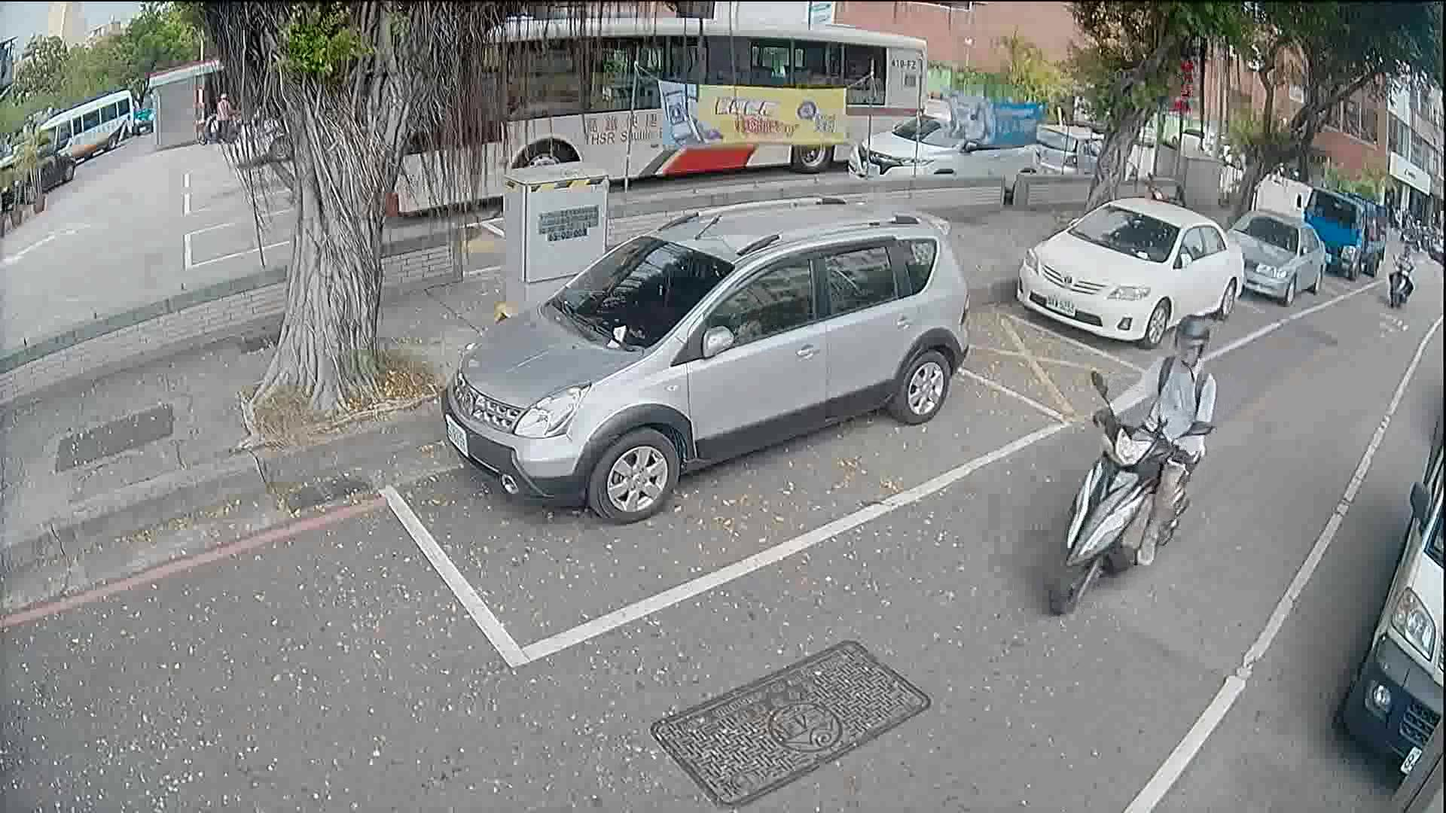person: (1084, 308, 1216, 569), (1384, 238, 1413, 296), (208, 85, 232, 143)
